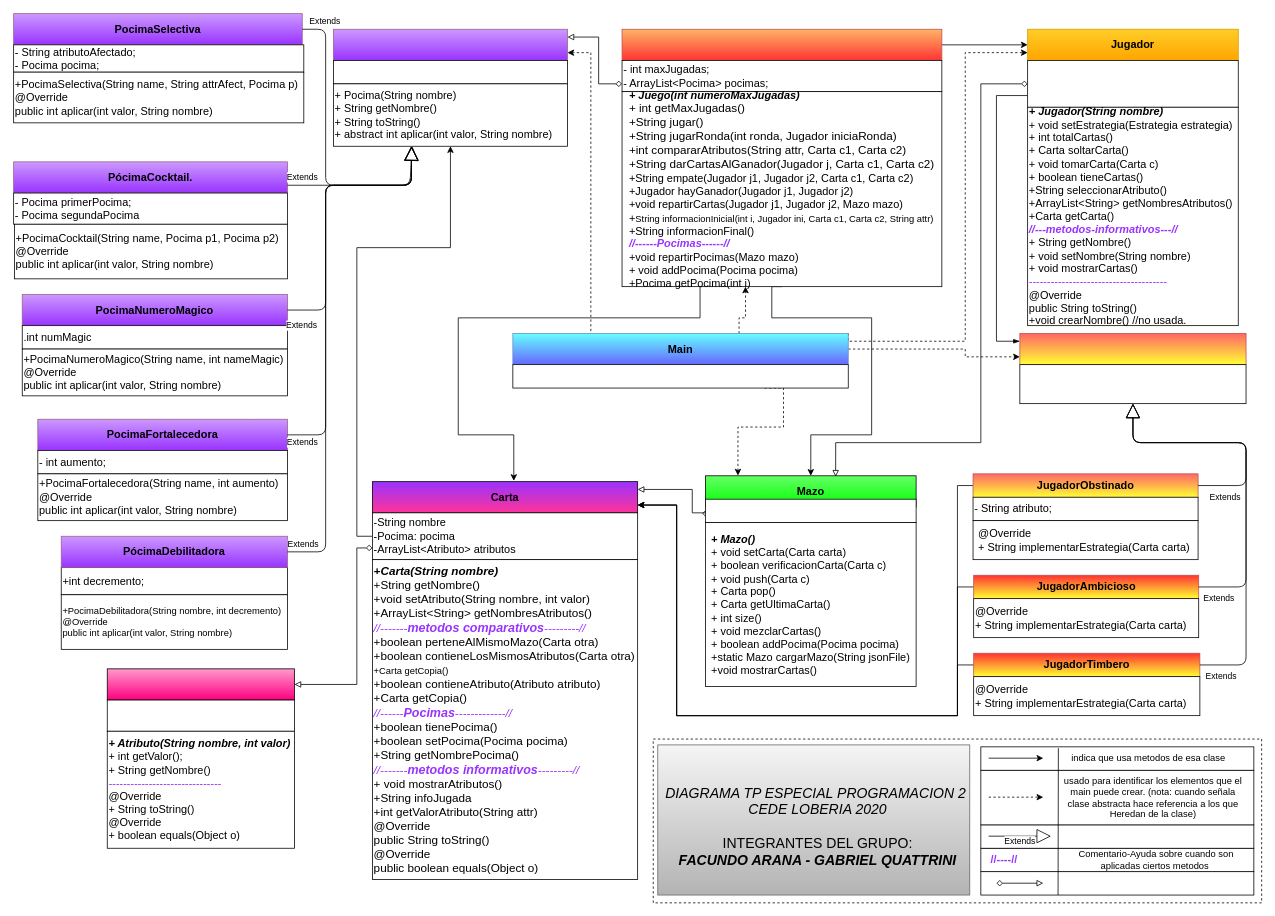
Some shapes in this 1275 by 916 pixel diagram are drawn without their labels. Each missing label, with the centre of its shape:
"+ abstract String implementarEstrategia(Carta carta)" belongs at point (1132, 384).
"+static void main(String[] args)" belongs at point (680, 376).
"- String nombre" belongs at point (450, 72).
"- String nombre; - Mazo mazoJugador; - Estrategia estrategia;" belongs at point (1132, 83).
"-ArrayList<Carta> cartas" belongs at point (810, 510).
"-String nombre -int valor" belongs at point (200, 715).
"Abstract Estrategia" belongs at point (1132, 349).
"Abstract Pocima" belongs at point (450, 44).
"Atributo" belongs at point (200, 684).
"Herencia" belongs at point (1117, 836).
"Implementa" belongs at point (1117, 883).
"Juego" belongs at point (781, 44).
